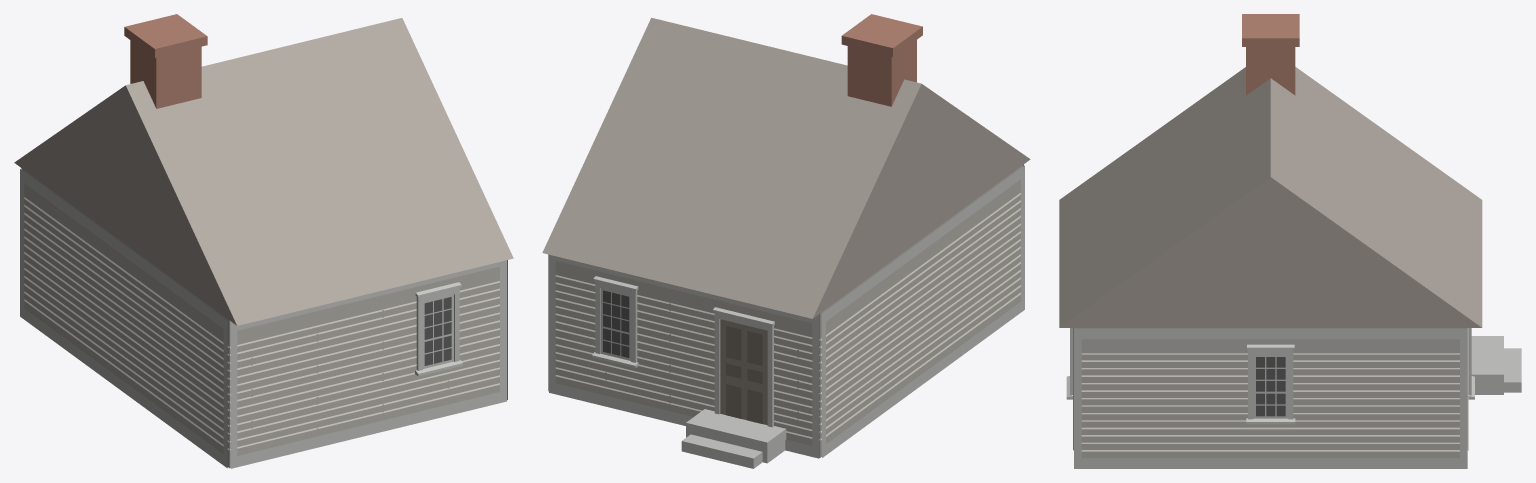
The model's file is recon_1835_blk_randolph_dearborn_d3_11__inferred_1835.glb.
3 renders of one model, left to right at view 1: azimuth 30°, elevation 25°; view 2: azimuth 150°, elevation 25°; view 3: azimuth 270°, elevation 25°, orthographic. The views are drawn at different scales.
Parts seen in each view (by area): view 1: recon_1835_blk_randolph_dearborn_d3_11__inferred_1835; view 2: recon_1835_blk_randolph_dearborn_d3_11__inferred_1835; view 3: recon_1835_blk_randolph_dearborn_d3_11__inferred_1835.
Boxes of the visible parts, x1,y1,x2,y2 form: recon_1835_blk_randolph_dearborn_d3_11__inferred_1835: (14,14,513,468); recon_1835_blk_randolph_dearborn_d3_11__inferred_1835: (542,14,1030,468); recon_1835_blk_randolph_dearborn_d3_11__inferred_1835: (1059,14,1521,468).
Size of the model in its own units: 5.3 by 6.24 by 7.86.
